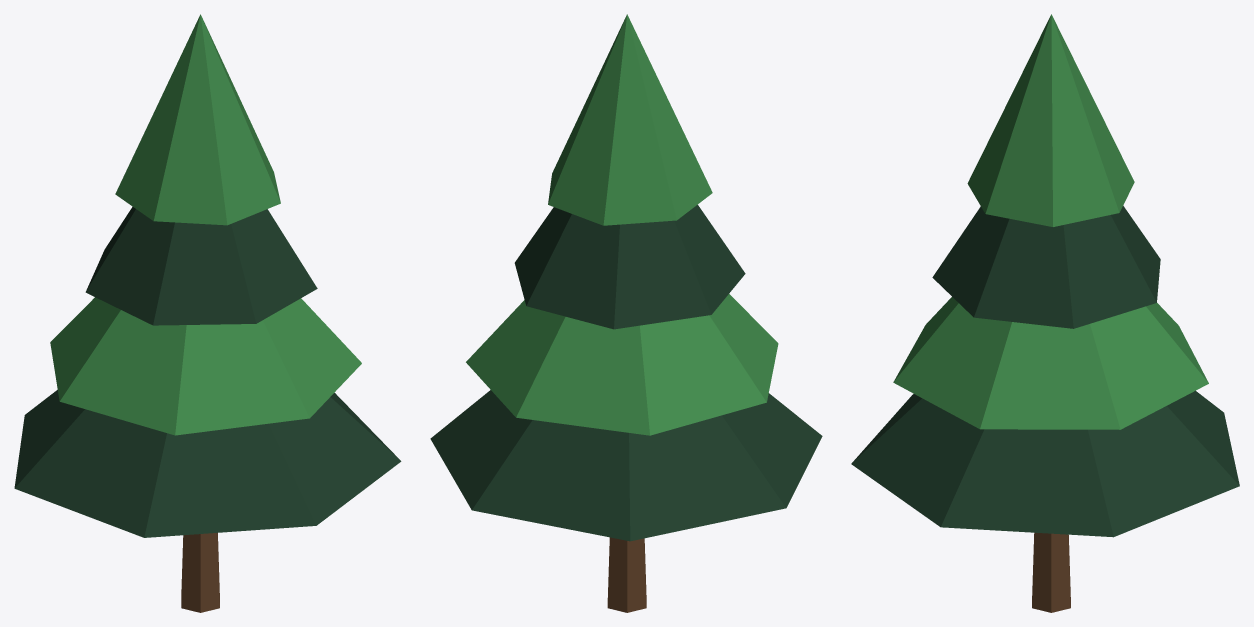
The model's file is pine-dark.glb.
The picture shows the model from 3 angles, left to right: view 1: azimuth 30°, elevation 25°; view 2: azimuth 150°, elevation 25°; view 3: azimuth 270°, elevation 25°; orthographic projection.
Visible parts, largest first — view 1: tree; view 2: tree; view 3: tree.
Boxes of the visible parts, box(x1,y1,x2,y2) form: tree: box(14, 14, 401, 612); tree: box(430, 14, 822, 612); tree: box(851, 14, 1239, 612).
Size of the model in its own units: 5.58 by 9.29 by 5.56.
